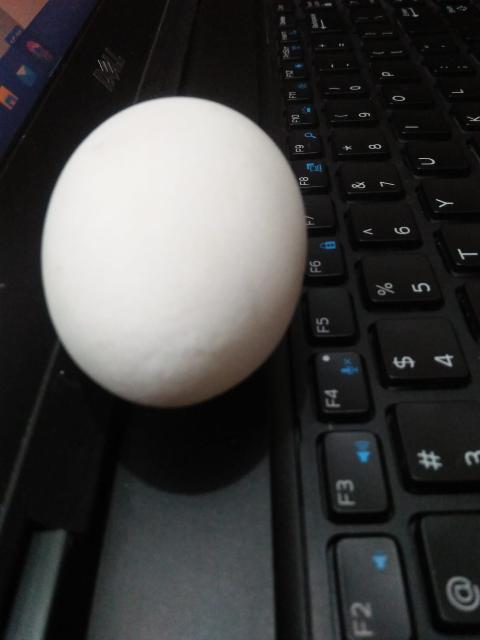Sano: (41, 96, 306, 409)
